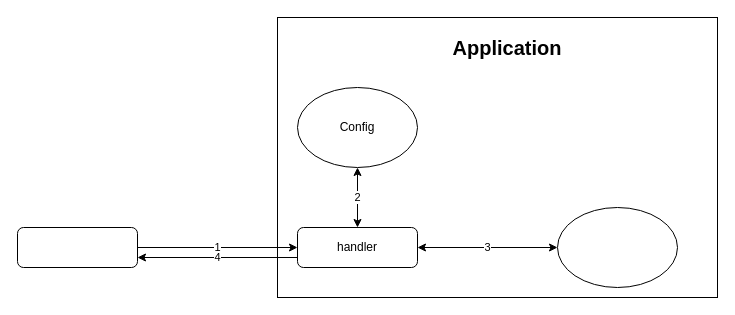
Image size: 735x315. Some labels were removed from this diagram. Here are the shapes that lost their labels. From the top down, the centre of each, then its label:
[77,247]: User
[617,247]: Ragbot
